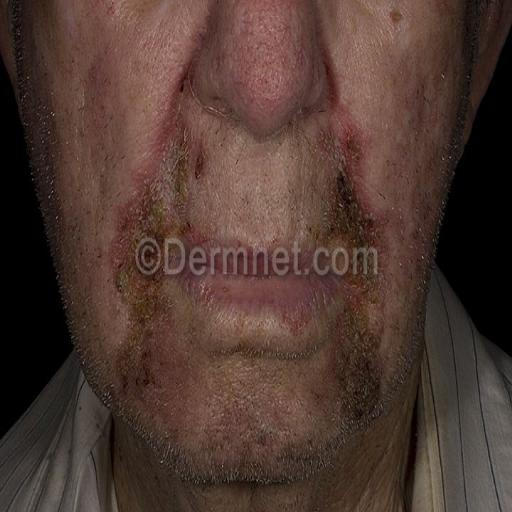Skin_Lesion: (318, 127, 381, 274), (325, 308, 393, 440), (112, 192, 172, 337), (150, 77, 184, 171), (108, 346, 163, 404), (401, 70, 436, 134), (82, 47, 117, 108), (192, 273, 218, 312), (190, 140, 209, 192), (384, 0, 409, 39), (186, 214, 209, 248), (106, 0, 121, 20)
